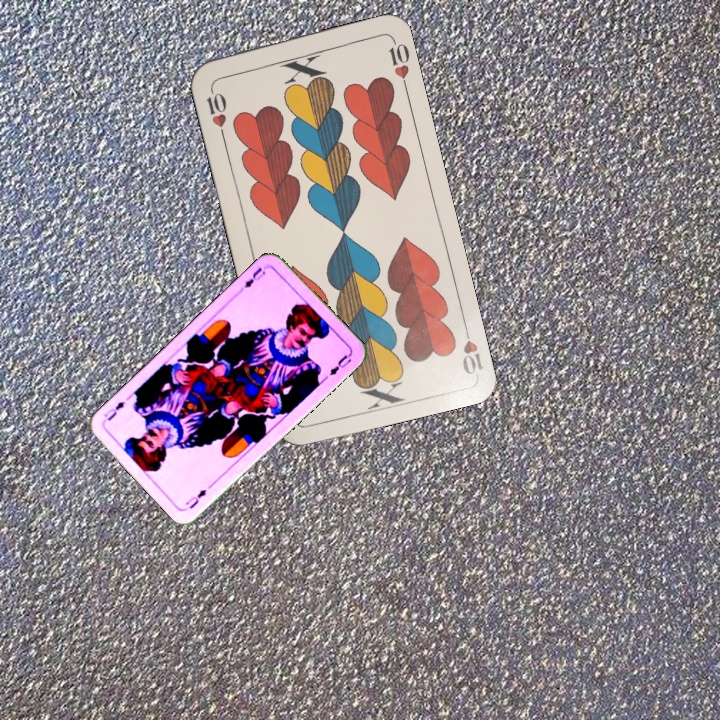EU: (237, 262, 270, 295), (181, 485, 209, 511)
H10: (458, 319, 486, 378), (202, 82, 229, 141)
